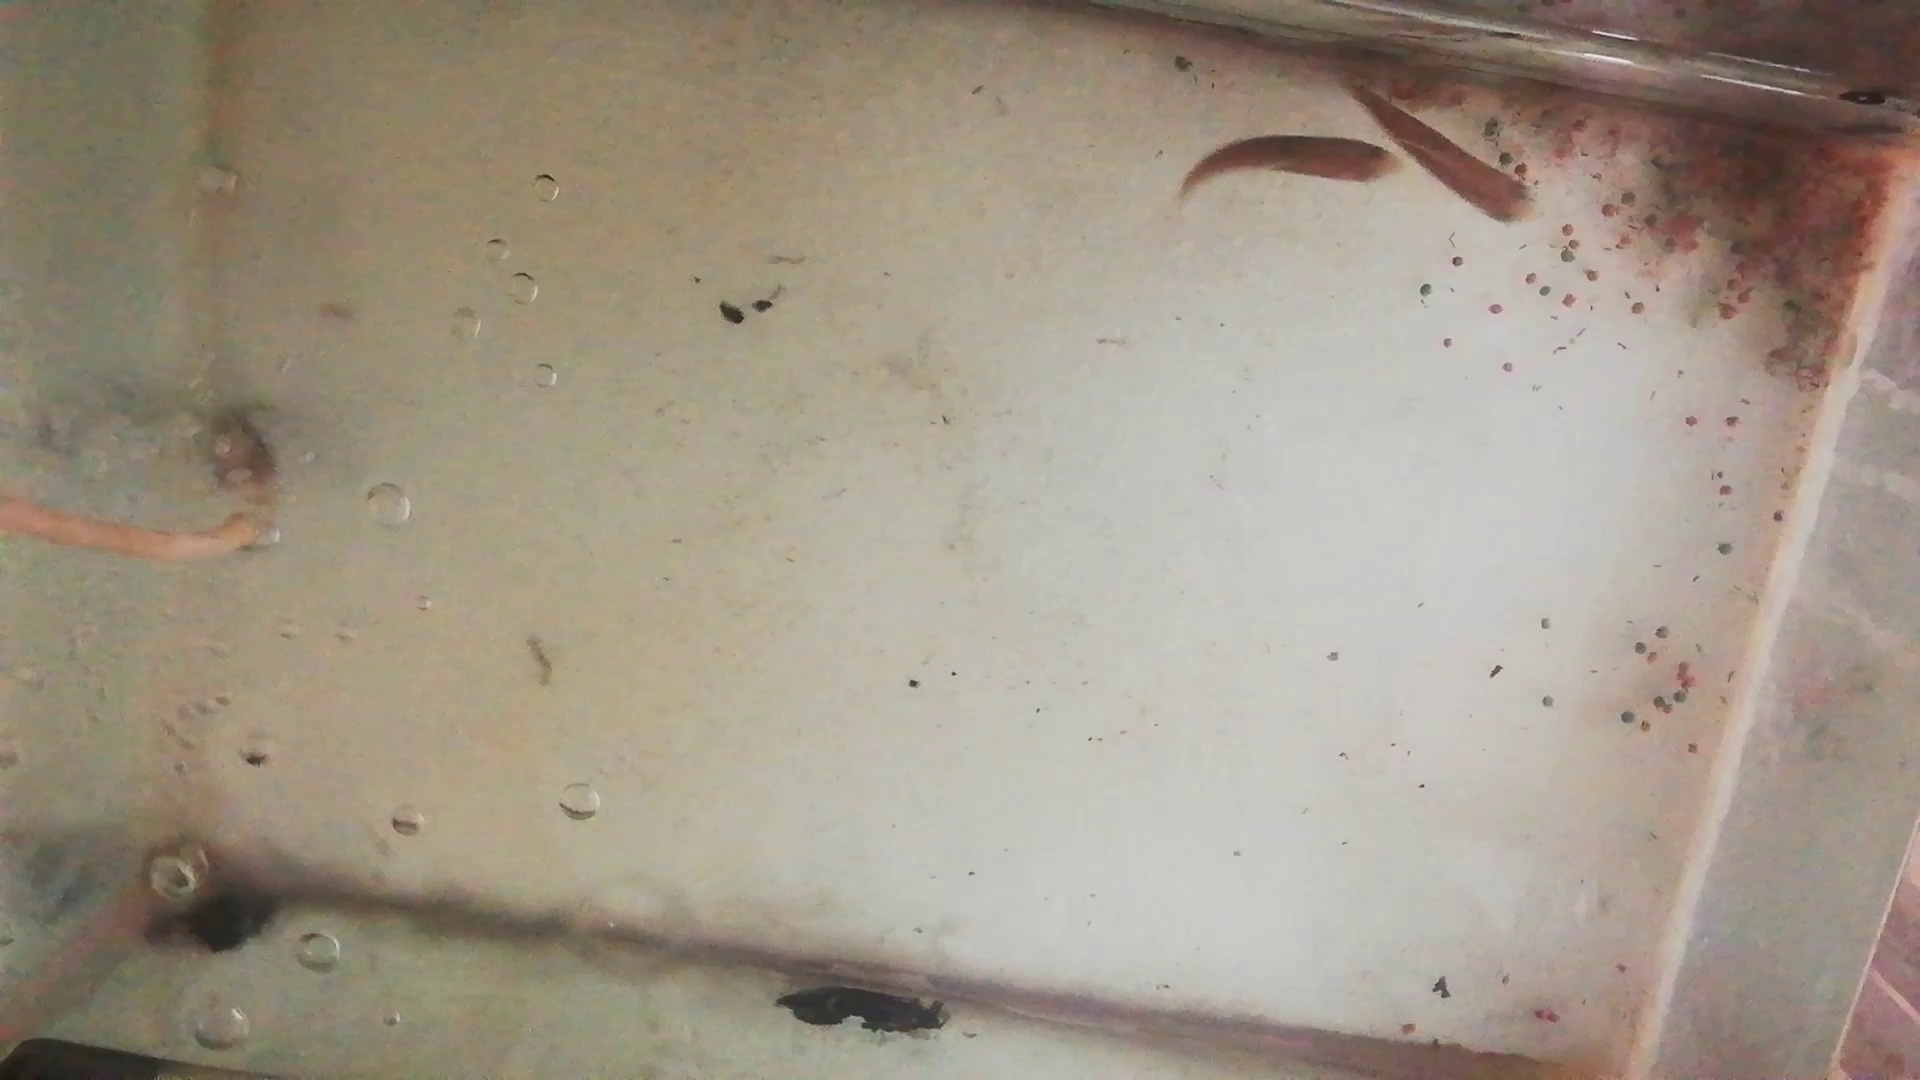fish: (1346, 79, 1534, 236), (1184, 132, 1403, 199)
